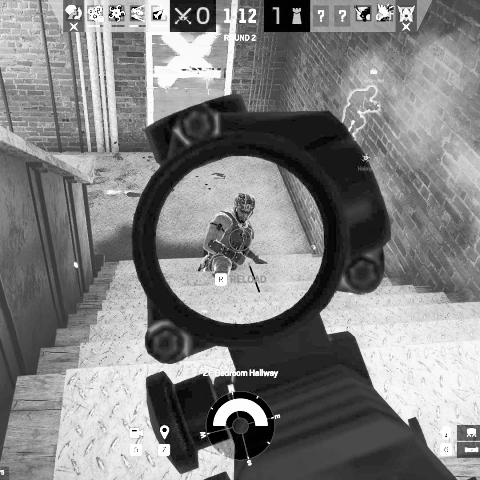Character: (198, 190, 268, 278)
Friend_label: (357, 153, 376, 172), (363, 68, 385, 82)
Head: (232, 190, 256, 226)
